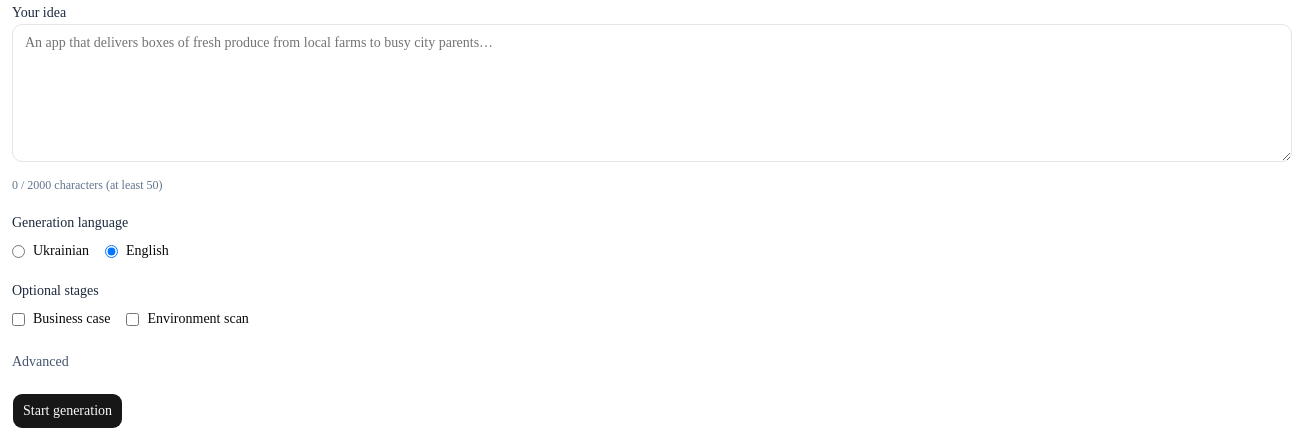
Test: IdeaForm › shows the character counter and, after a failed submit, why the idea is rejected
Replace the text in the text box labelled "Your idea" with "too short" at (652, 93), box [12,24,1292,162]
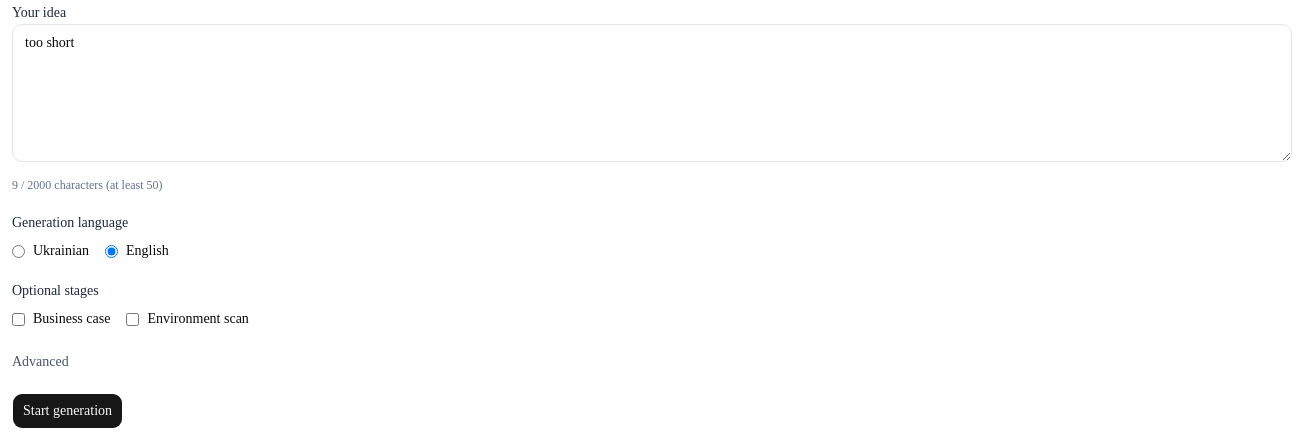
Expected: the text "9 / 2000 characters (at least 50)" is shown, [12,177,163,193]
Submit the form named "Start generation"
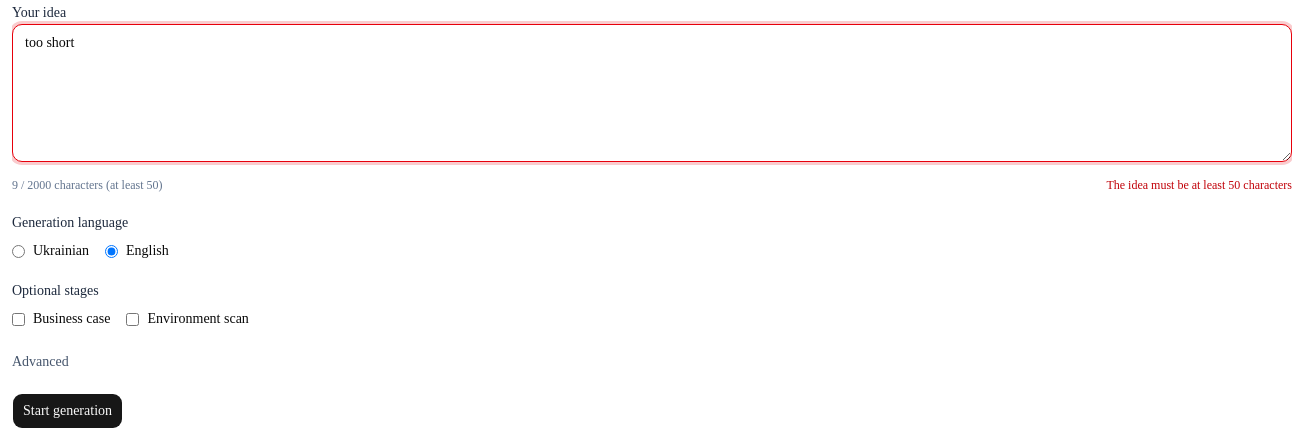
Expected: the message reads "The idea must be at least 50 characters", [1106,178,1292,192]
